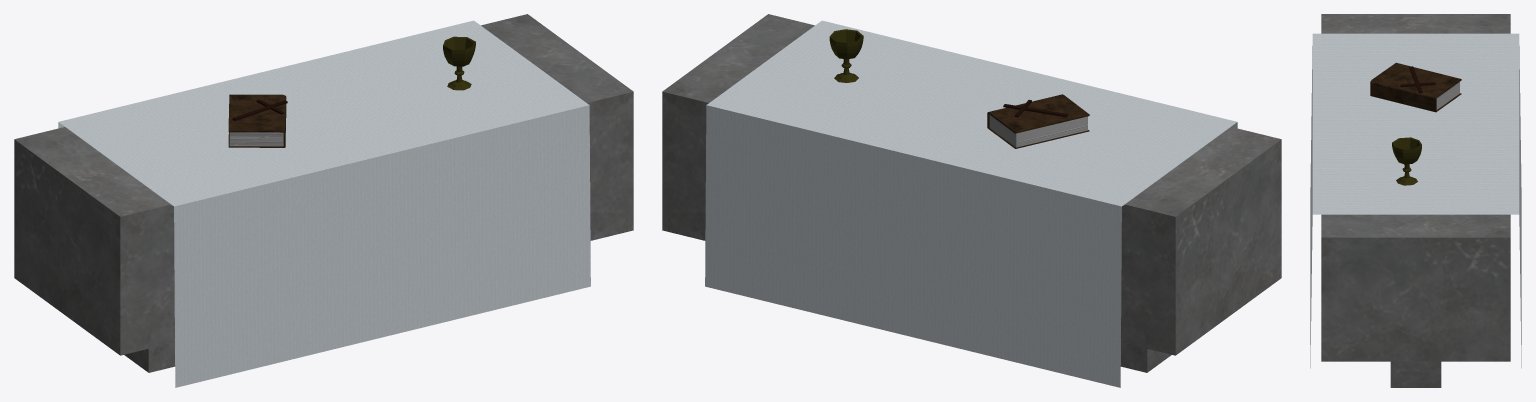
The model's file is Altar_ConCosas.obj.
3 renders of one model, left to right at view 1: azimuth 30°, elevation 25°; view 2: azimuth 150°, elevation 25°; view 3: azimuth 270°, elevation 25°, orthographic. The views are drawn at different scales.
Parts seen in each view (by area): view 1: Plane.001, Cube_Cube.002, Plane.003, Cube_Cube.003; view 2: Plane.001, Cube_Cube.002, Plane.003, Cube_Cube.003; view 3: Plane.001, Cube_Cube.002, Plane.003, Cube_Cube.003, Plane.005.
Part boxes in pixels (bbox=[...]): Plane.001: bbox=[58, 20, 590, 387]; Cube_Cube.002: bbox=[14, 14, 633, 372]; Plane.003: bbox=[228, 94, 286, 147]; Cube_Cube.003: bbox=[443, 36, 475, 90]; Plane.001: bbox=[705, 20, 1237, 387]; Cube_Cube.002: bbox=[662, 14, 1281, 372]; Plane.003: bbox=[987, 94, 1089, 148]; Cube_Cube.003: bbox=[829, 29, 863, 82]; Plane.001: bbox=[1310, 33, 1521, 368]; Cube_Cube.002: bbox=[1321, 14, 1510, 387]; Plane.003: bbox=[1370, 62, 1461, 112]; Cube_Cube.003: bbox=[1392, 137, 1421, 185]; Plane.005: bbox=[1400, 66, 1435, 93].
Size of the model in its own units: 3.31 by 1.51 by 1.32.
Materials: 6 (4 with a texture image).
